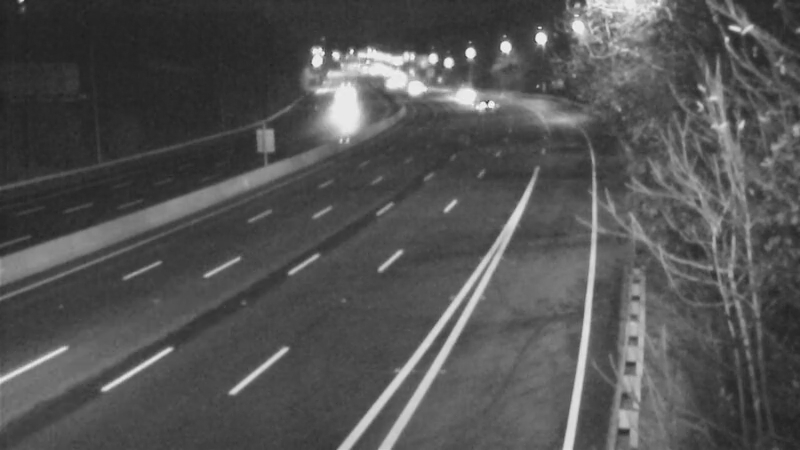vehicle: (435, 69, 485, 119), (459, 82, 509, 132), (317, 80, 367, 130)
